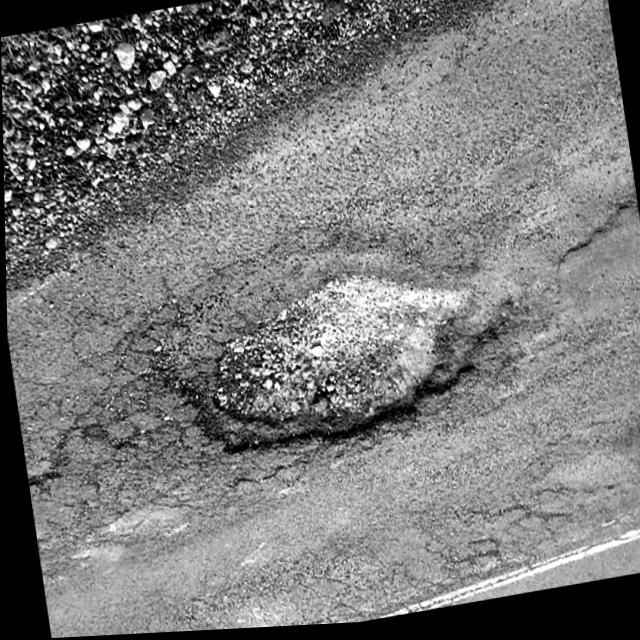pathole: (5, 196, 514, 571)
